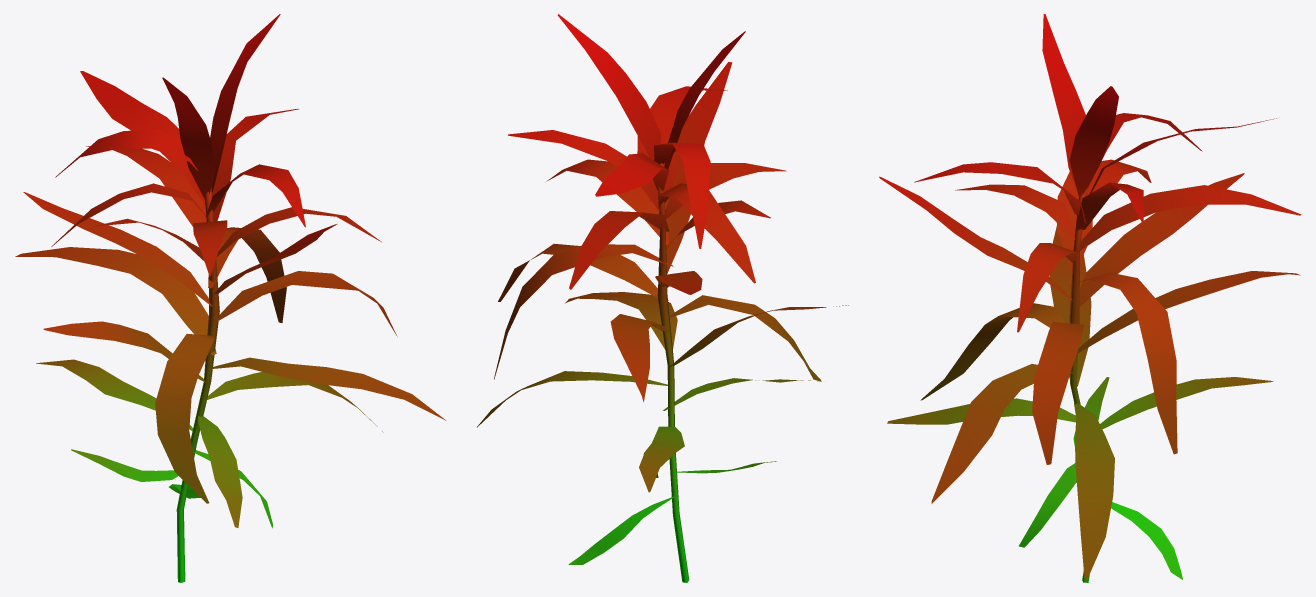
File: Butterfly Weed_LOD2_Var13.fbx
The picture shows the model from 3 angles, left to right: view 1: azimuth 30°, elevation 25°; view 2: azimuth 150°, elevation 25°; view 3: azimuth 270°, elevation 25°; orthographic projection. The views are drawn at different scales.
Parts seen in each view (by area): view 1: _ss4j_Var13_LOD2; view 2: _ss4j_Var13_LOD2; view 3: _ss4j_Var13_LOD2.
Part boxes in pixels (x1,y1,x2,y2): _ss4j_Var13_LOD2: (15, 14, 446, 582); _ss4j_Var13_LOD2: (477, 14, 848, 582); _ss4j_Var13_LOD2: (879, 14, 1301, 582).
Bounding box in the file's own units: 27.91 × 40.38 × 28.01.
